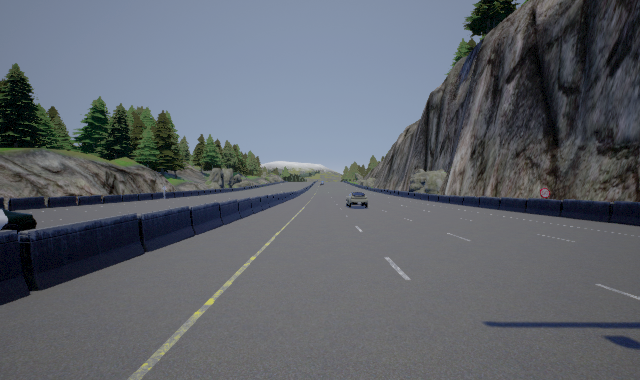traffic_sign: (540, 188, 550, 198)
vehicle: (1, 208, 37, 234), (346, 192, 368, 208)
